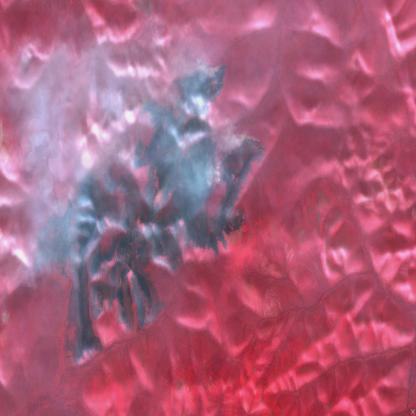fire: (170, 49, 238, 118), (211, 127, 269, 190)
